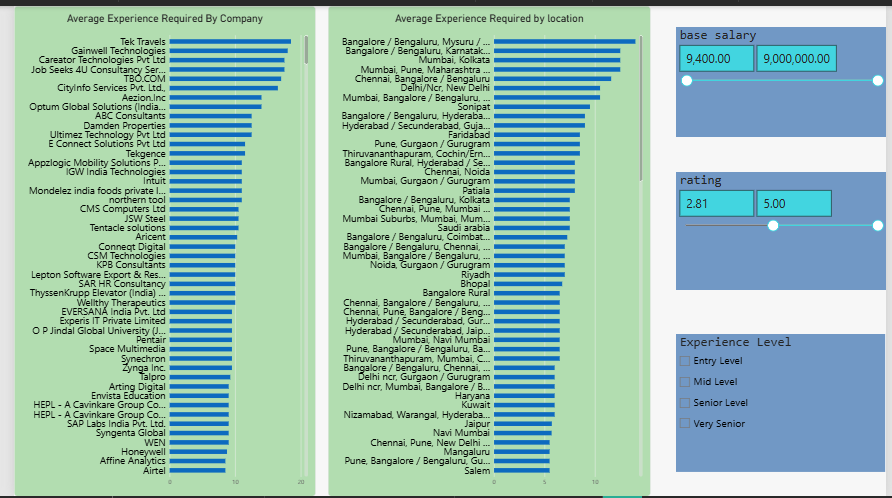

The dashboard page shown, as its layout file describes it:
{"tool":"powerbi","page":{"name":"Advanced Analysis & Filters","canvas":[1920,1080],"ordinal":1},"visuals":[{"type":"barChart","title":"Average Experience Required By Company","fields":{"Category":["DataAnalystJobs.company"],"Y":["DataAnalystJobs.Average Experience Required"]},"box":[0,0,665.2,1080.9],"z":0},{"type":"clusteredBarChart","fields":{"Category":["DataAnalystJobs.location"],"Y":["DataAnalystJobs.Average Experience Required"]},"box":[692.9,0,710.6,1080.9],"z":1000},{"type":"slicer","fields":{"Values":["DataAnalystJobs.rating"]},"box":[1459.1,365.9,460.7,260.1],"z":2000},{"type":"slicer","fields":{"Values":["DataAnalystJobs.base salary"]},"box":[1459.1,46.3,460.7,242.4],"z":3000},{"type":"slicer","fields":{"Values":["DataAnalystJobs.Experience Level"]},"box":[1459.1,722.9,460.7,304.2],"z":4000}]}

Visuals, with their boxes in screenshot pixels (x1, y1, x2, y2), scaled from the page's 1920x1080 canvas onto the 892x498 screenshot:
"Average Experience Required By Company" barChart: 0:0:309:497
clusteredBarChart - DataAnalystJobs.location x DataAnalystJobs.Average Experience Required: 322:0:652:497
slicer - DataAnalystJobs.rating: 678:169:891:289
slicer - DataAnalystJobs.base salary: 678:21:891:133
slicer - DataAnalystJobs.Experience Level: 678:333:891:474
